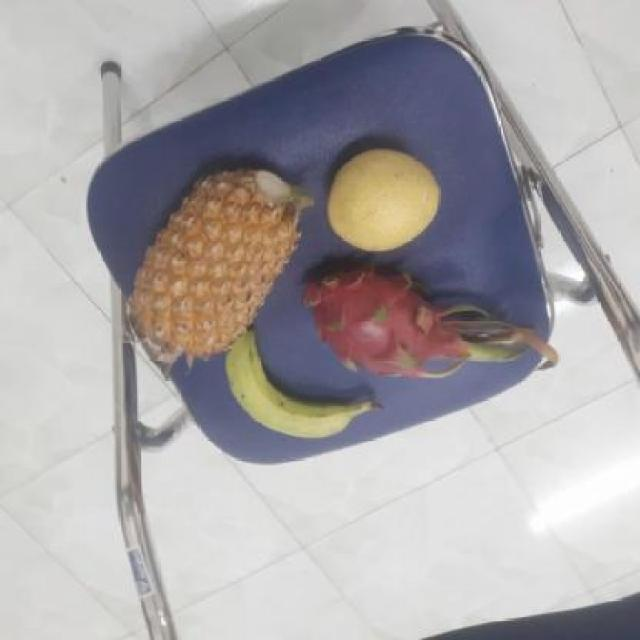banana: (209, 338, 363, 442)
dragon fruit: (298, 255, 468, 378)
pear: (322, 147, 443, 250)
pineapple: (127, 169, 305, 357)
